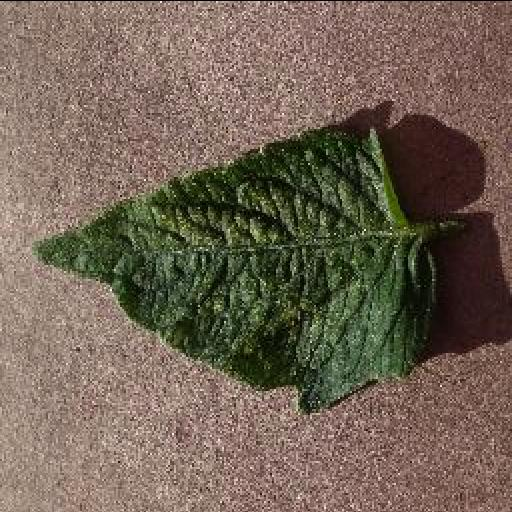disease_tomato: (32, 125, 438, 411)
